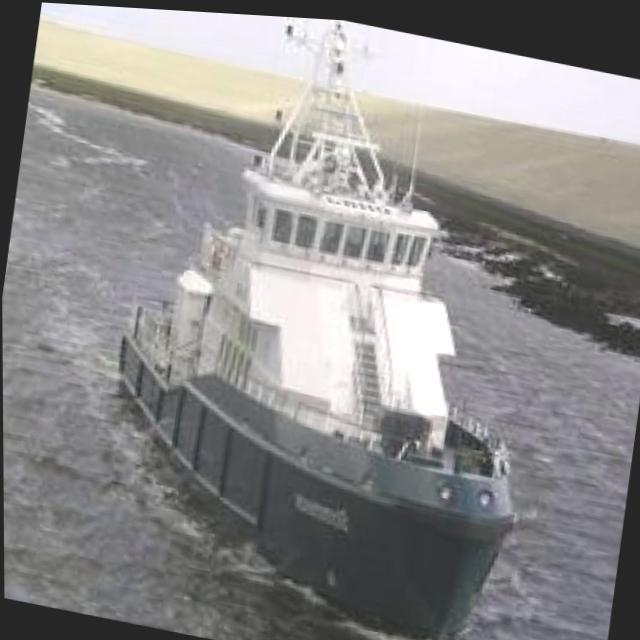ship2: (116, 14, 514, 640)
